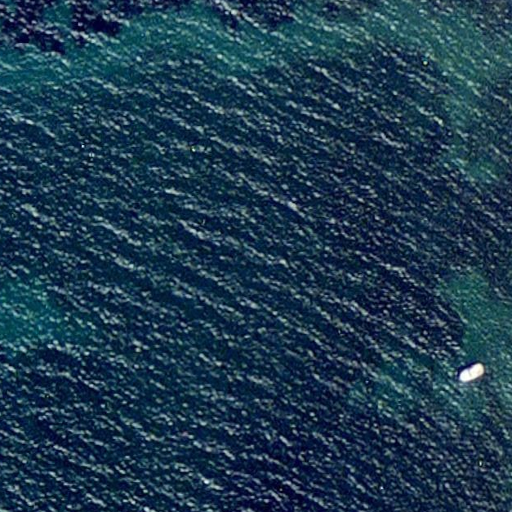ship: (456, 357, 487, 385)
